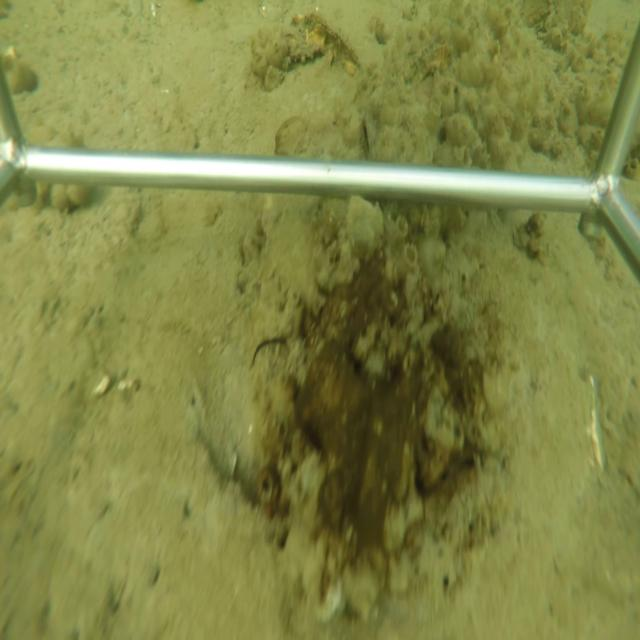Oyster-Closed: (288, 11, 362, 67)
Oyster-Open: (246, 322, 290, 382), (358, 105, 375, 164)
